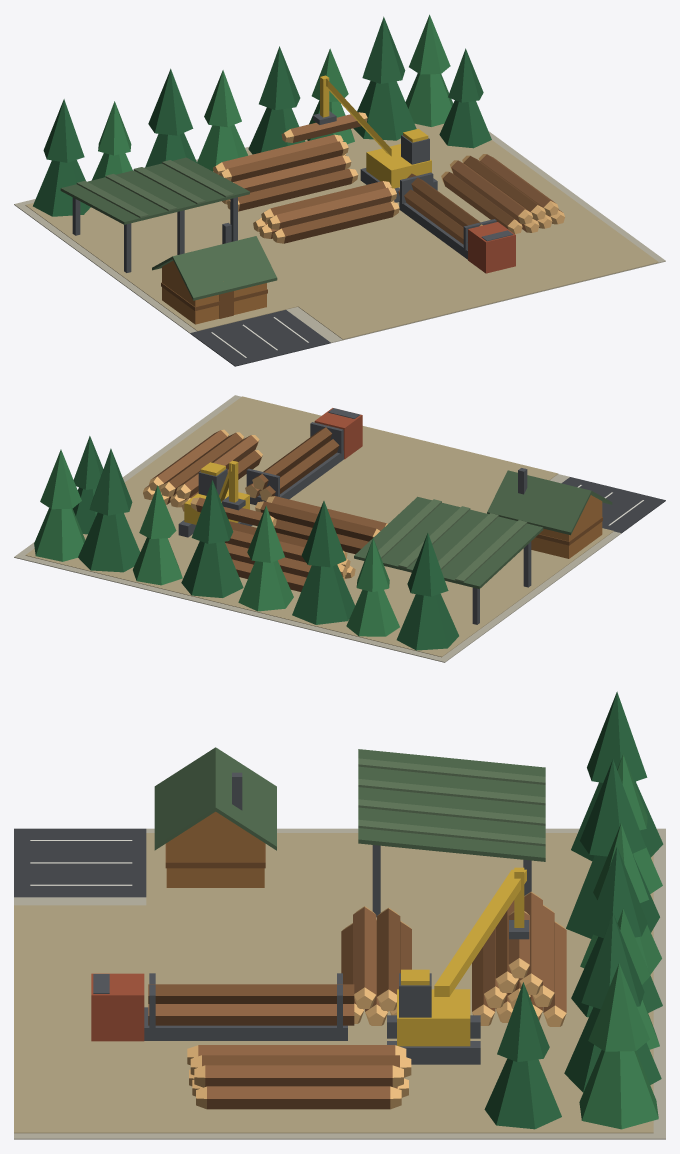
Rendered from loggingcamp.glb.
The picture shows the model from 3 angles, top to bottom: view 1: azimuth 30°, elevation 25°; view 2: azimuth 150°, elevation 25°; view 3: azimuth 270°, elevation 25°; orthographic projection. The views are drawn at different scales.
Visible parts, largest first — view 1: loggingcamp; view 2: loggingcamp; view 3: loggingcamp.
Boxes of the visible parts, x1,y1,x2,y2 form: loggingcamp: (14,14,665,366); loggingcamp: (14,395,665,662); loggingcamp: (14,691,665,1139).
Bounding box in the file's own units: 36 × 9.24 × 32.
